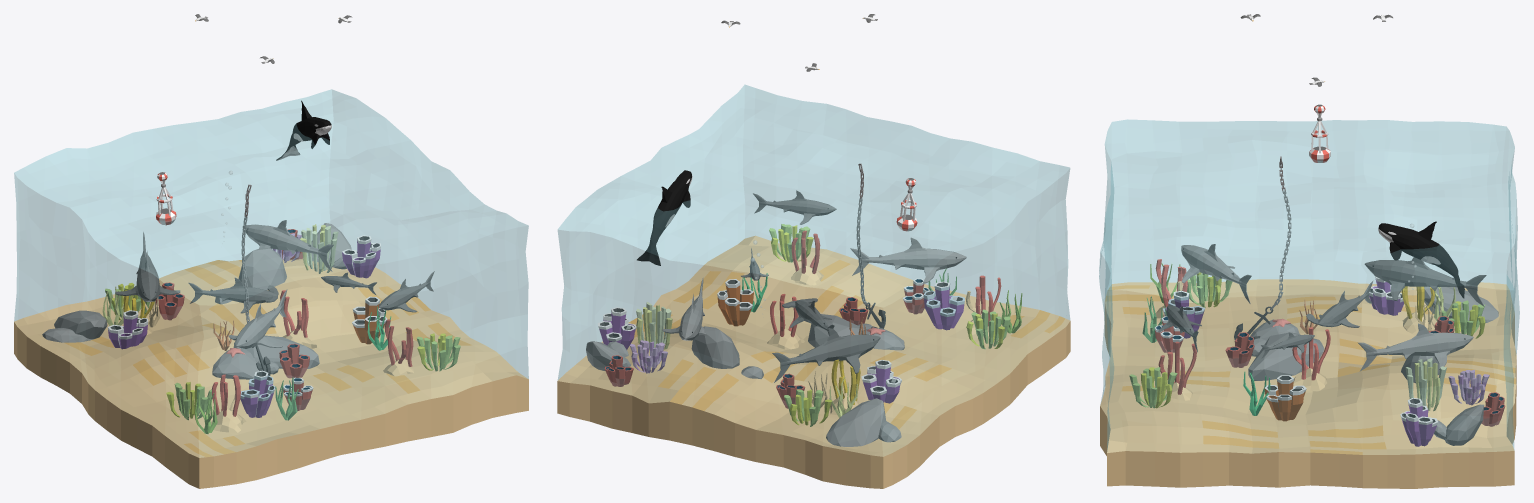
Rendered from ocean.glb.
3 views of the same model, side by side, from view 1: azimuth 30°, elevation 25°; view 2: azimuth 150°, elevation 25°; view 3: azimuth 270°, elevation 25° (orthographic). The views are drawn at different scales.
Visible parts, largest first — view 1: Object_4, Object_9, Object_6, Object_5, Plane_2, Object_10; view 2: Object_4, Object_9, Object_6, Object_5, Plane_2, Object_10; view 3: Object_4, Object_9, Object_6, Object_5, Plane_2, Object_10.
Boxes of the visible parts, x1,y1,x2,y2 form: Object_4: (14,89,528,457); Object_9: (14,223,528,488); Object_6: (115,232,434,348); Object_5: (195,14,352,375); Plane_2: (276,100,331,160); Object_10: (156,172,176,225); Object_4: (558,85,1069,456); Object_9: (557,224,1070,488); Object_6: (741,190,966,382); Object_5: (662,14,885,340); Plane_2: (637,170,692,265); Object_10: (896,178,917,231); Object_4: (1099,119,1519,454); Object_9: (1100,259,1516,488); Object_6: (1158,244,1486,358); Object_5: (1234,14,1473,371); Plane_2: (1378,221,1464,298); Object_10: (1309,104,1330,162).
Bounding box in the file's own units: 40.87 × 40.1 × 40.37.
Materials: 5 (1 with a texture image).
